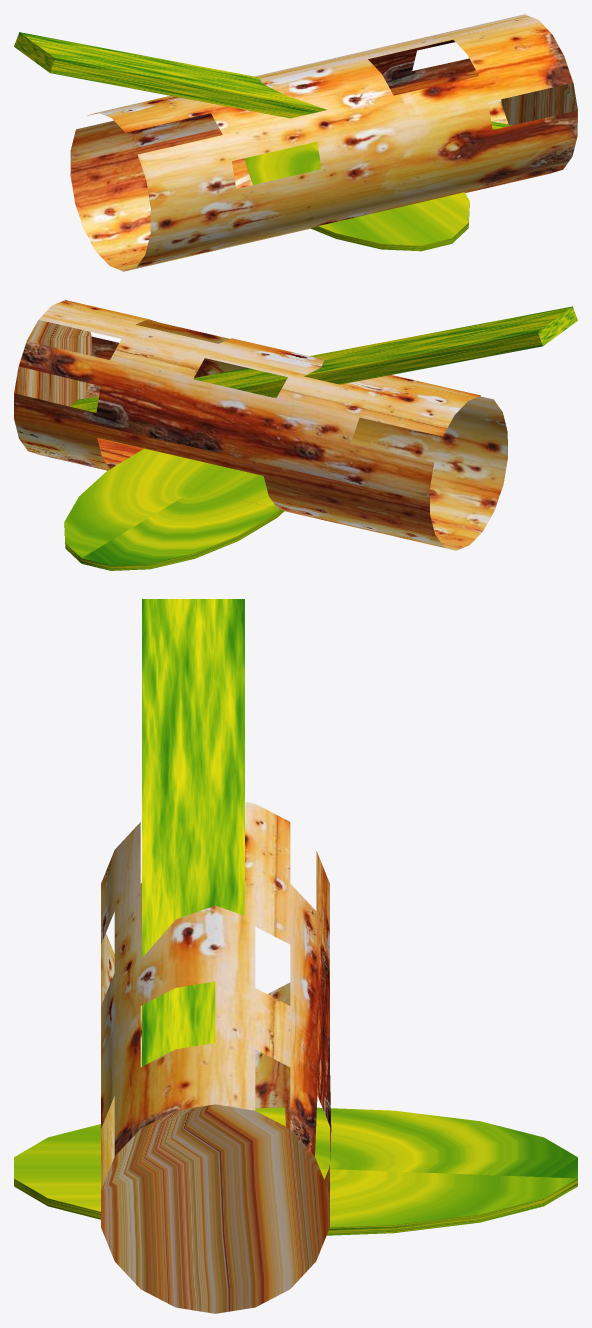
The model's file is acid pipe.fbx.
3 renders of one model, top to bottom at view 1: azimuth 30°, elevation 25°; view 2: azimuth 150°, elevation 25°; view 3: azimuth 270°, elevation 25°, orthographic. The views are drawn at different scales.
Visible parts, largest first — view 1: pipe, acid, acid pool; view 2: pipe, acid pool, acid; view 3: pipe, acid, acid pool.
Part boxes in pixels (x1=…): pipe: x1=70, y1=14, x2=577, y2=271; acid: x1=14, y1=32, x2=511, y2=129; acid pool: x1=245, y1=141, x2=469, y2=251; pipe: x1=14, y1=300, x2=507, y2=550; acid pool: x1=64, y1=448, x2=284, y2=570; acid: x1=70, y1=306, x2=577, y2=412; pipe: x1=101, y1=802, x2=331, y2=1313; acid: x1=142, y1=599, x2=244, y2=1066; acid pool: x1=14, y1=1107, x2=577, y2=1235.
Size of the model in its own units: 1573 by 736 by 1044.
Materials: 2 (2 with a texture image).
